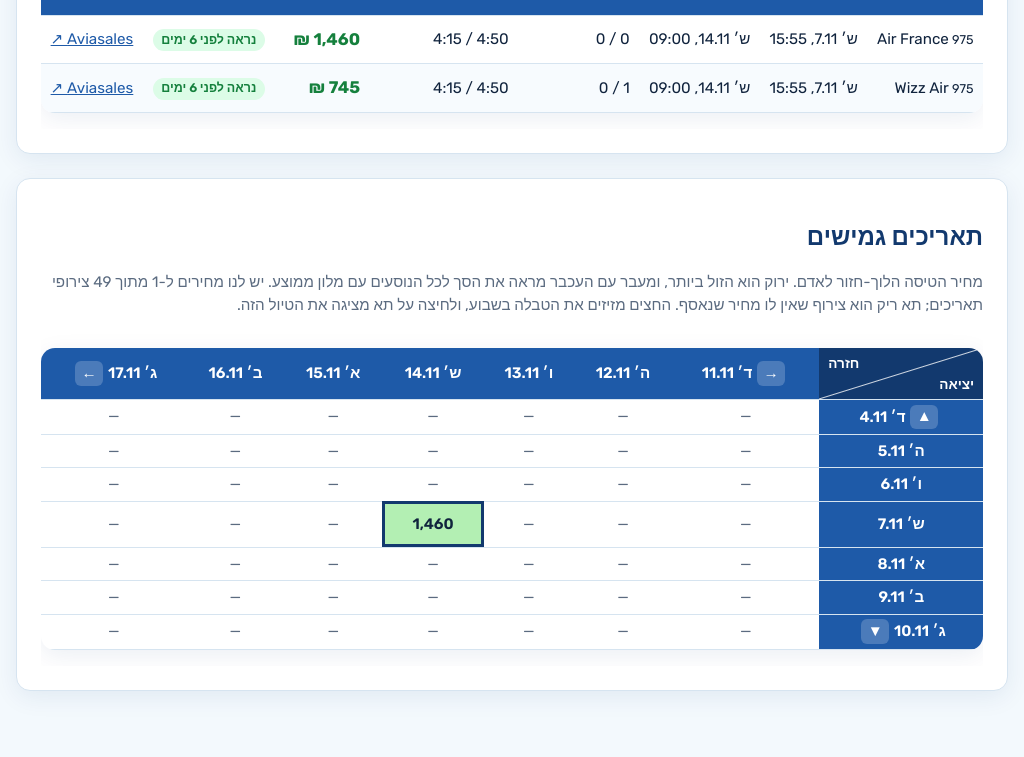
Test: the arrows move the date grid a week, and a button brings it back
(page scrolled)
expect the text "יש לנו מחירים ל-1 מתוך" is shown: met, box [41,271,983,317]
Click the button named "חזרה מאוחרת יותר".
click(89, 374)  # box [75,361,103,386]
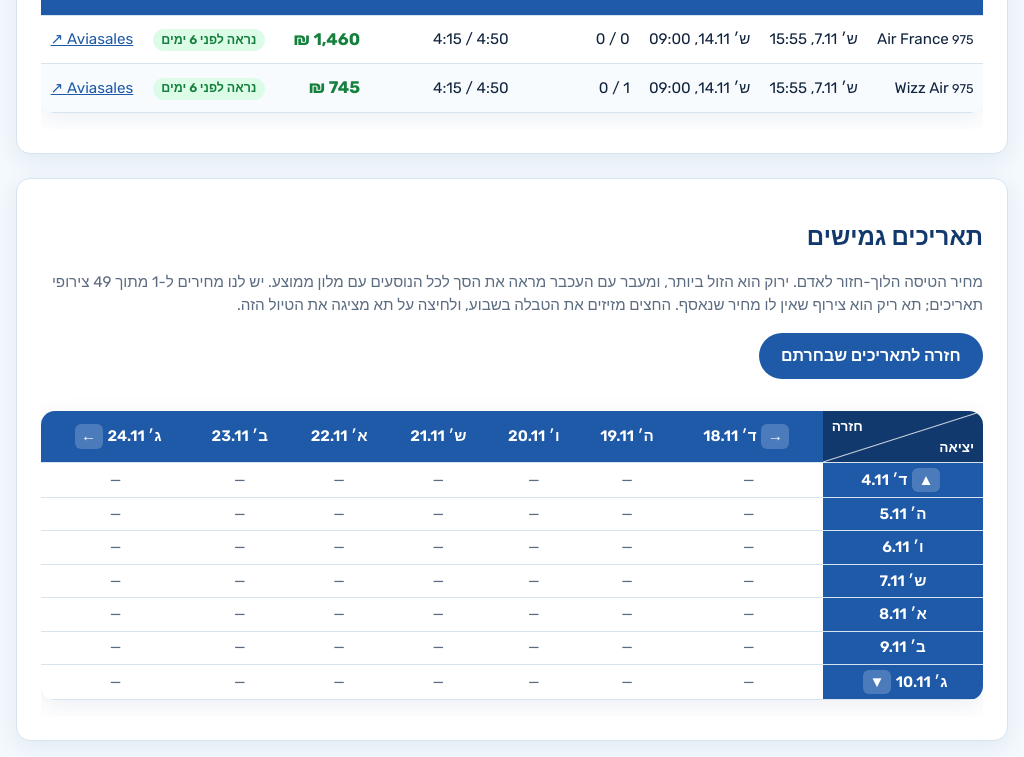
expect the column heading "ש׳ 21.11" is shown: met, box [389,411,488,462]
Click the button named "יציאה מאוחרת יותר".
click(877, 682)  # box [863,670,891,694]
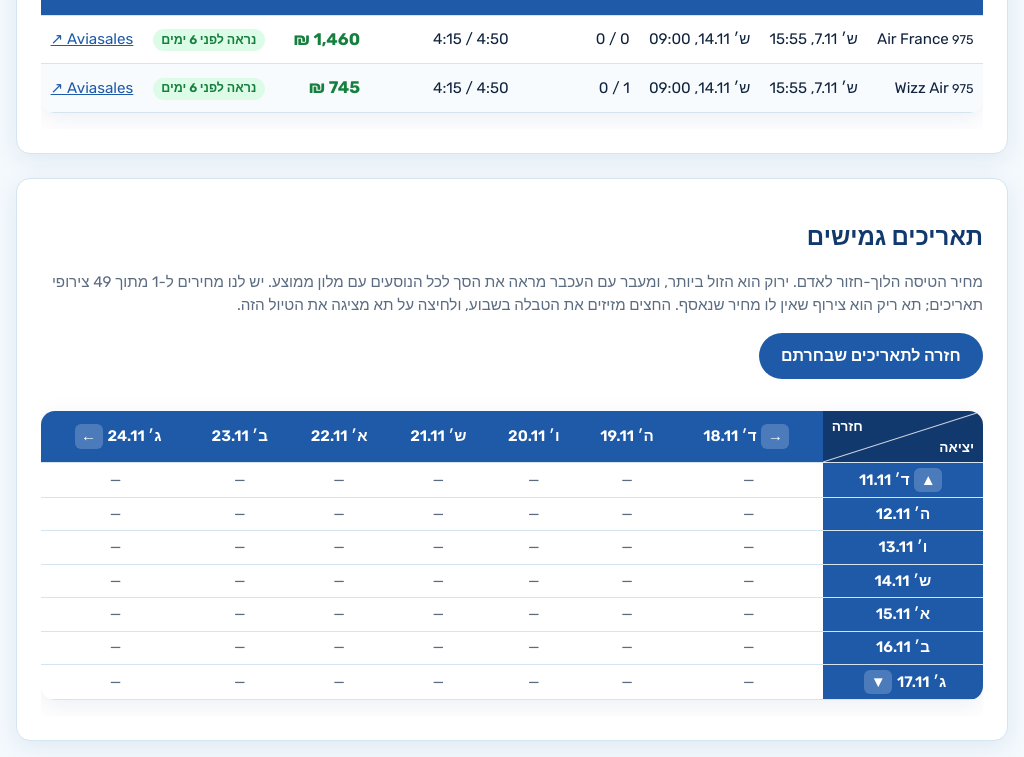
Click the button "חזרה לתאריכים שבחרתם".
click(871, 356)  # box [759,333,983,379]
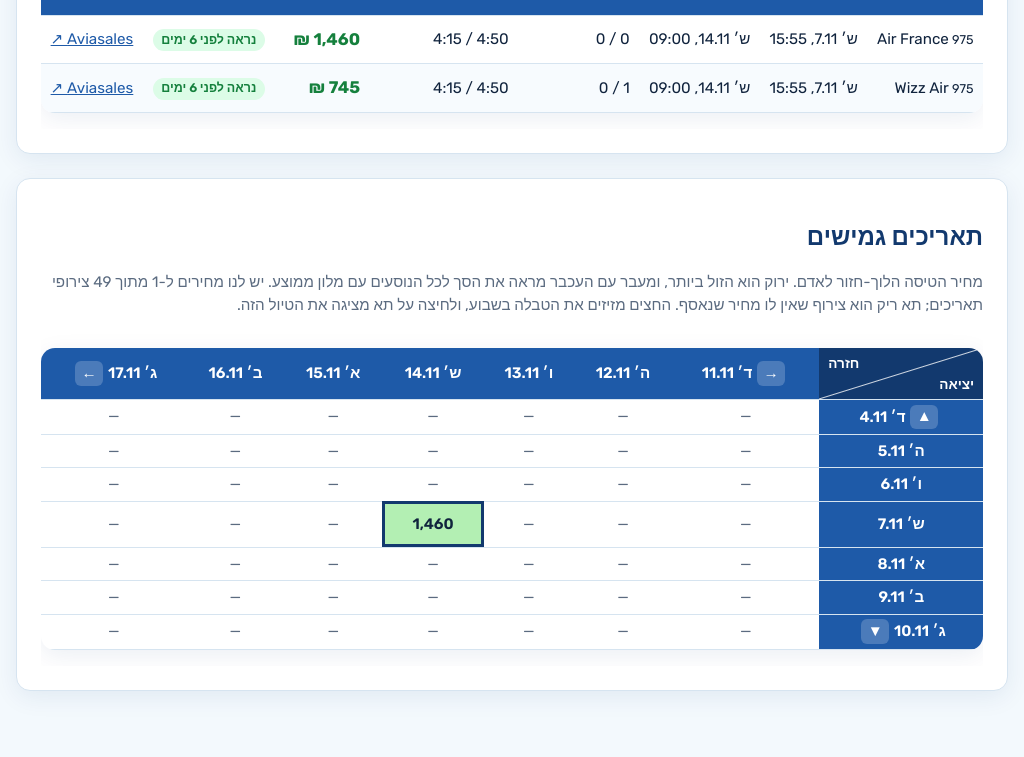
expect the button "חזרה לתאריכים שבחרתם" is gone: met
